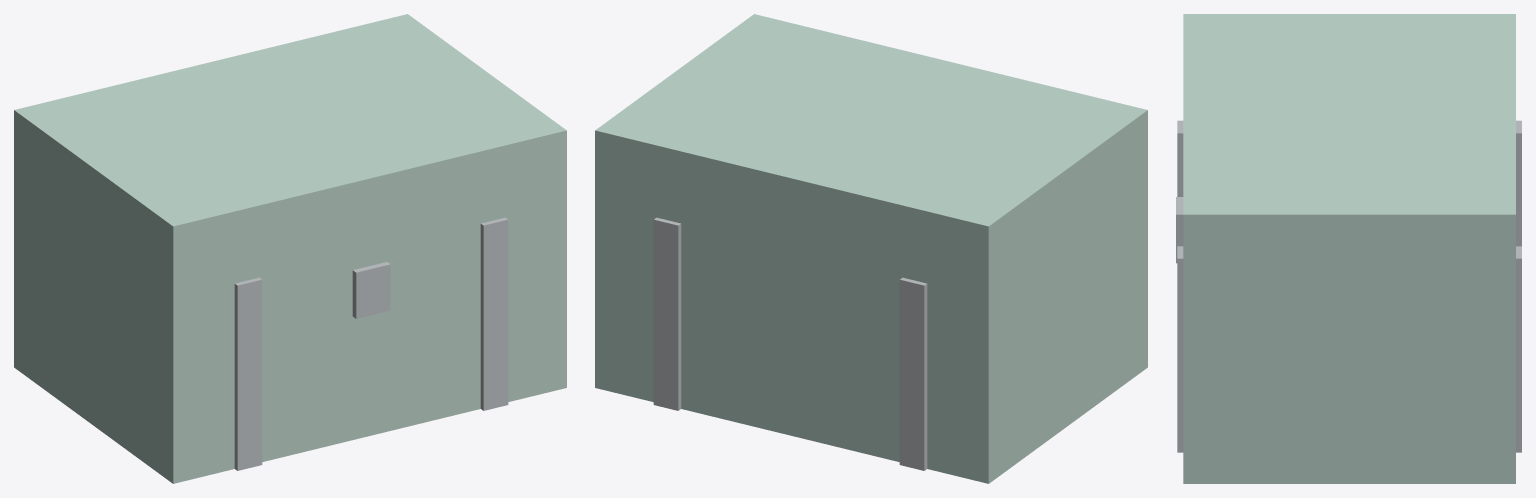
Rendered from coffre.glb.
3 renders of one model, left to right at view 1: azimuth 30°, elevation 25°; view 2: azimuth 150°, elevation 25°; view 3: azimuth 270°, elevation 25°, orthographic. The views are drawn at different scales.
Visible parts, largest first — view 1: couvercle, bois, ferrure; view 2: couvercle, bois, ferrure; view 3: couvercle, bois, ferrure.
Boxes of the visible parts, x1,y1,x2,y2 form: couvercle: [14, 14, 566, 303]; bois: [14, 187, 566, 483]; ferrure: [234, 217, 508, 470]; couvercle: [595, 14, 1147, 303]; bois: [595, 187, 1147, 483]; ferrure: [653, 217, 927, 470]; couvercle: [1183, 14, 1515, 295]; bois: [1183, 295, 1515, 483]; ferrure: [1176, 120, 1521, 452].
Size of the model in its own units: 0.8 by 0.5 by 0.582.
